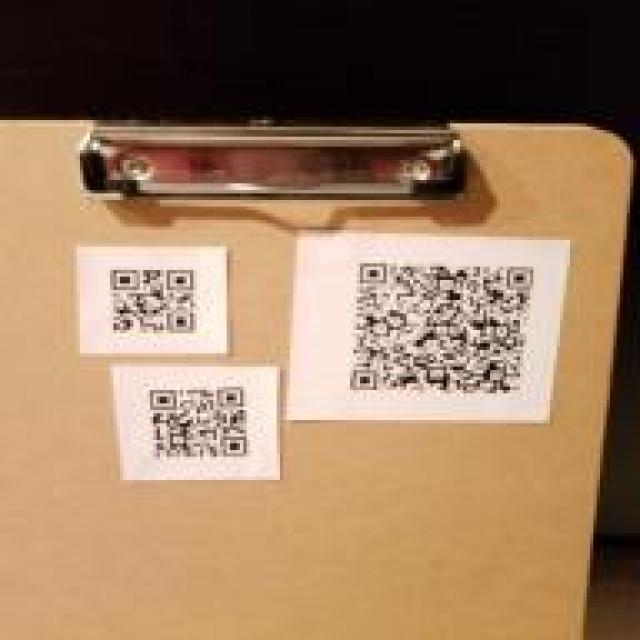QR_CODE: (335, 250, 540, 407), (133, 384, 267, 474), (102, 256, 206, 342)
